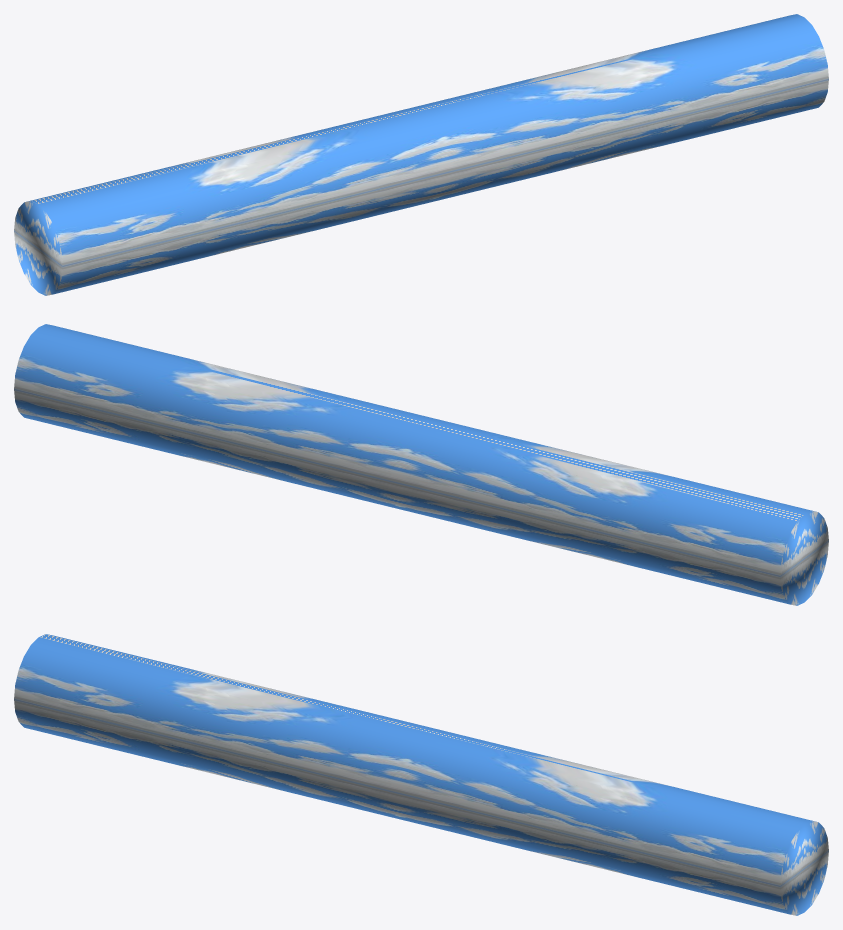
The model's file is skycilinder.obj.
The picture shows the model from 3 angles, top to bottom: view 1: azimuth 30°, elevation 25°; view 2: azimuth 150°, elevation 25°; view 3: azimuth 330°, elevation 25°; orthographic projection.
Parts seen in each view (by area): view 1: pCylinder1; view 2: pCylinder1; view 3: pCylinder1.
Part boxes in pixels (bbox=[...]): pCylinder1: bbox=[14, 14, 828, 295]; pCylinder1: bbox=[14, 324, 828, 605]; pCylinder1: bbox=[14, 634, 828, 915].
Bounding box in the file's own units: 201 × 22.14 × 22.14.
Materials: 1 (1 with a texture image).
